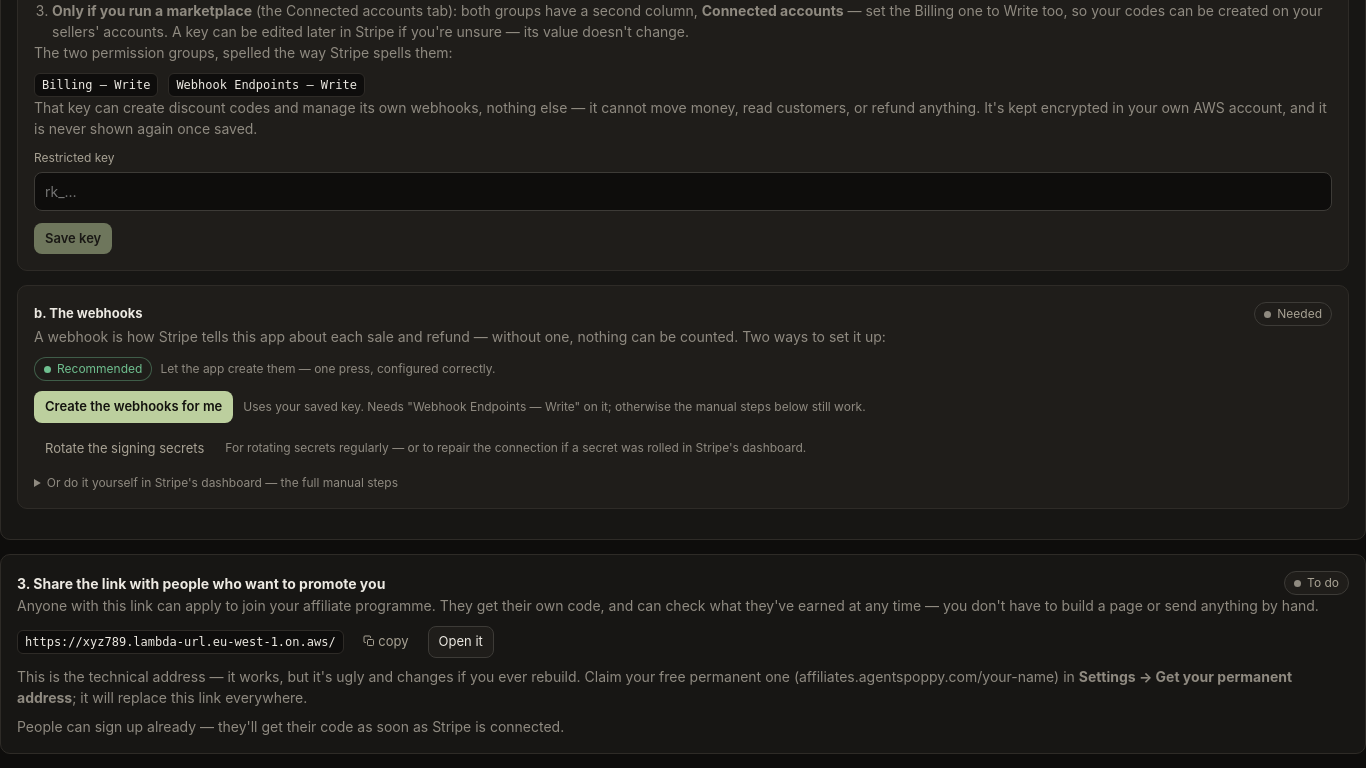
Test: webhook automation (D20) › offers the one-click path first, runs it, and shows the report in sentences
This screenshot has width=1366, height=768.
(page scrolled)
Click the button "Create the webhooks for me" at (134, 407), box [34,391,233,422]
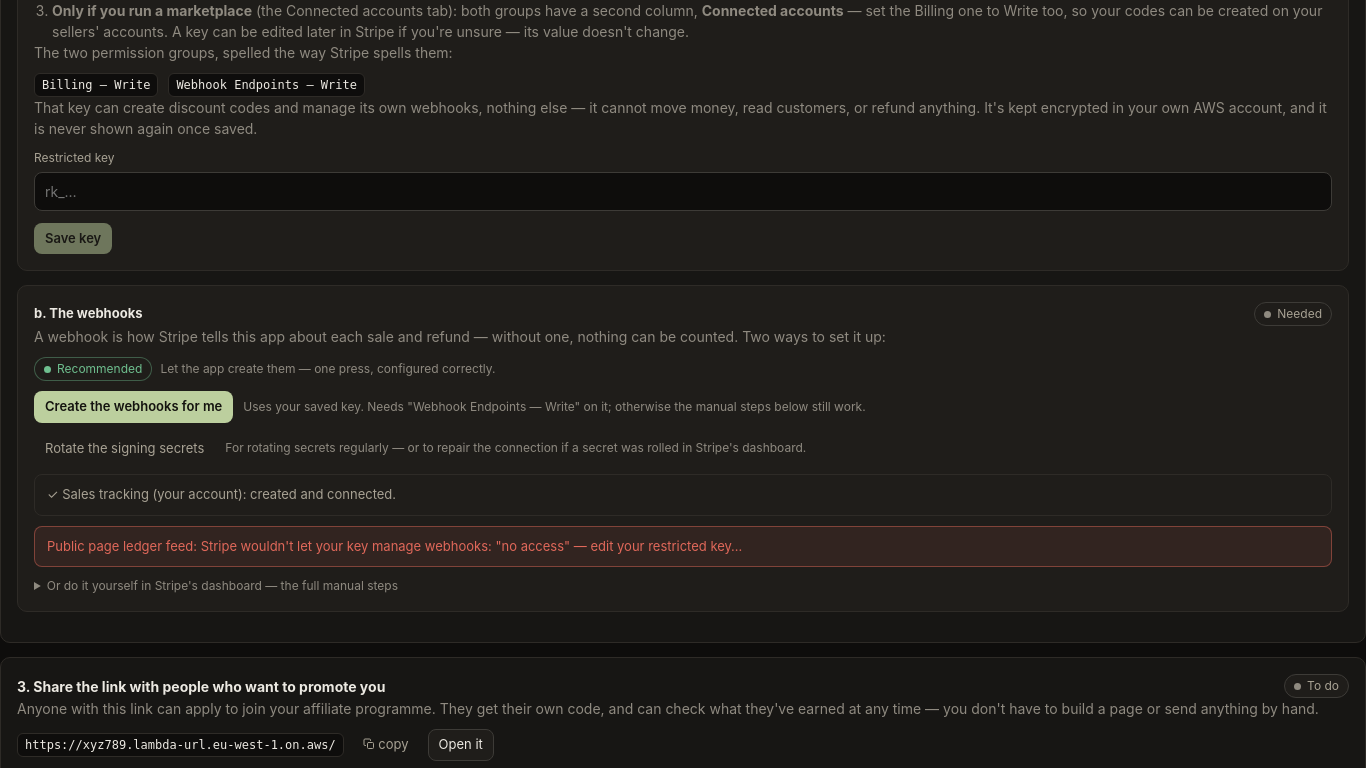
Now the text "✓ Sales tracking (your account): created and connected." is shown, box [34,474,1332,516]
Now the text "wouldn't let your key manage webhooks" is shown, box [47,538,742,554]
